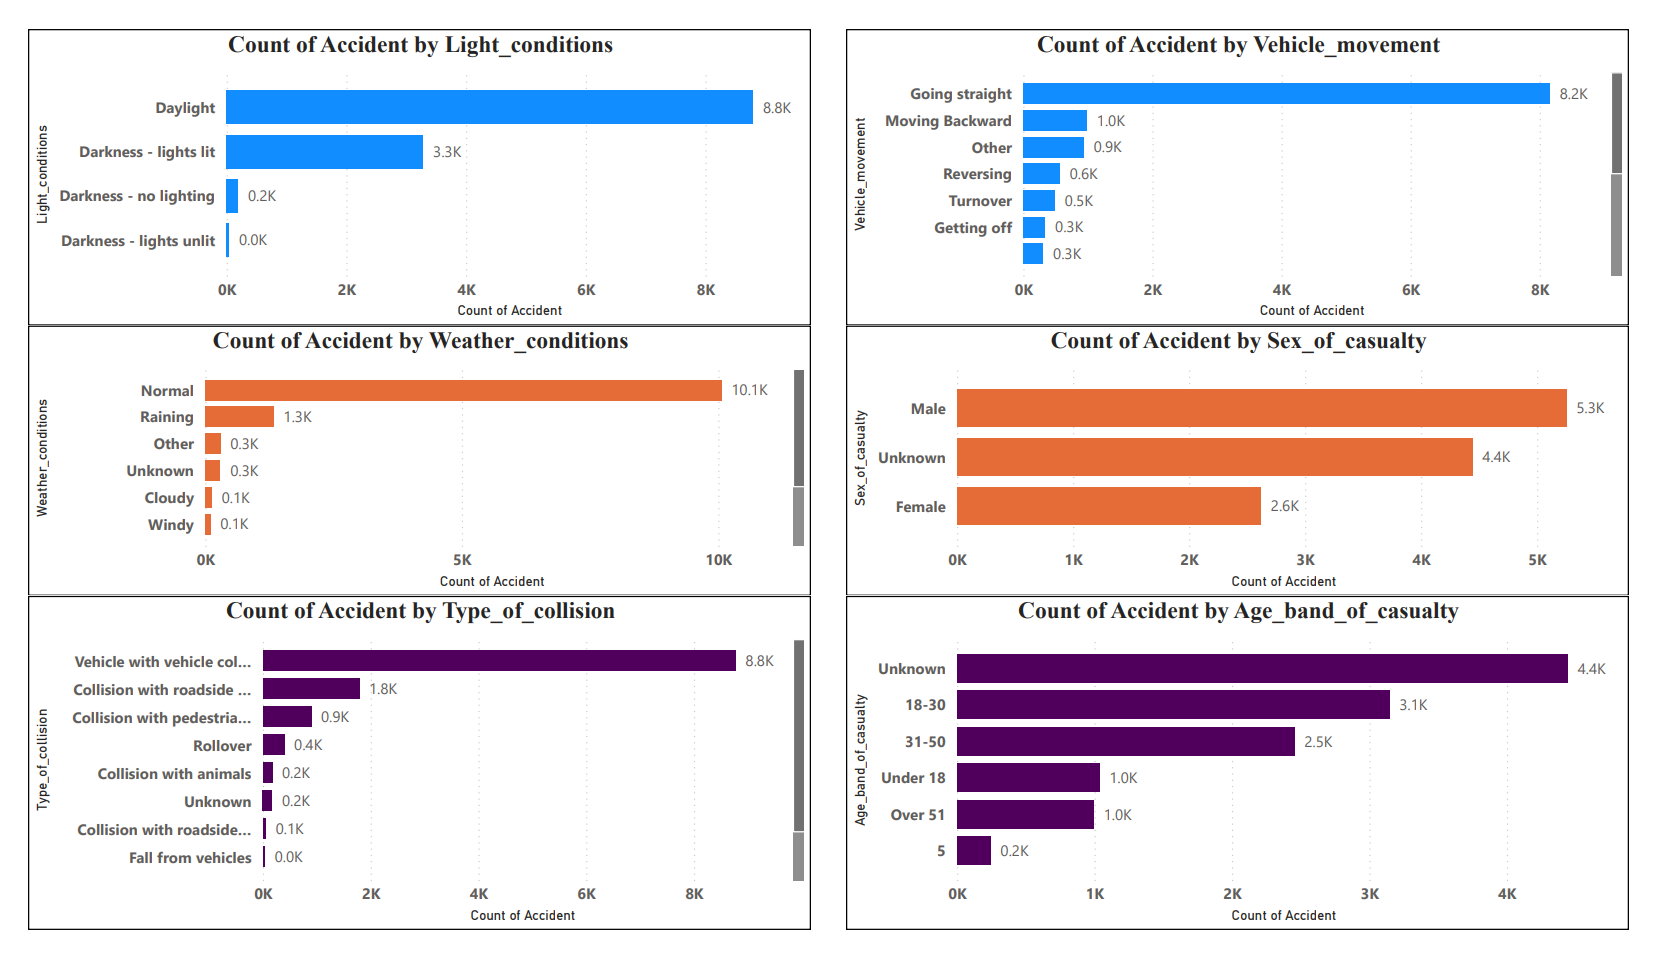

The page's visual inventory and layout, read from the dashboard file:
{"tool":"powerbi","page":{"name":"Count of Accident by Type 3","canvas":[1280,720],"ordinal":5},"visuals":[{"type":"barChart","fields":{"Y":["CountNonNull(RTA Dataset.Index)"],"Category":["RTA Dataset.Light_conditions"]},"box":[0,0,625.7,237.1],"z":0},{"type":"barChart","fields":{"Y":["CountNonNull(RTA Dataset.Index)"],"Category":["RTA Dataset.Weather_conditions"]},"box":[0,237.1,625.7,215.7],"z":1},{"type":"barChart","fields":{"Y":["CountNonNull(RTA Dataset.Index)"],"Category":["RTA Dataset.Type_of_collision"]},"box":[0,452.9,625.7,267.1],"z":2},{"type":"barChart","fields":{"Y":["CountNonNull(RTA Dataset.Index)"],"Category":["RTA Dataset.Vehicle_movement"]},"box":[654.3,0,625.7,237.1],"z":3},{"type":"barChart","fields":{"Y":["CountNonNull(RTA Dataset.Index)"],"Category":["RTA Dataset.Sex_of_casualty"]},"box":[654.3,237.1,625.7,215.7],"z":4},{"type":"barChart","fields":{"Y":["CountNonNull(RTA Dataset.Index)"],"Category":["RTA Dataset.Age_band_of_casualty"]},"box":[654.3,452.9,625.7,267.1],"z":5}]}

Visuals, with their boxes in screenshot pixels (x1, y1, x2, y2), scaled from the page's 1280x720 canvas onto the 1658x954 screenshot:
barChart - CountNonNull(RTA Dataset.Index) x RTA Dataset.Light_conditions: bbox=[0, 0, 810, 314]
barChart - CountNonNull(RTA Dataset.Index) x RTA Dataset.Weather_conditions: bbox=[0, 314, 810, 600]
barChart - CountNonNull(RTA Dataset.Index) x RTA Dataset.Type_of_collision: bbox=[0, 600, 810, 953]
barChart - CountNonNull(RTA Dataset.Index) x RTA Dataset.Vehicle_movement: bbox=[848, 0, 1657, 314]
barChart - CountNonNull(RTA Dataset.Index) x RTA Dataset.Sex_of_casualty: bbox=[848, 314, 1657, 600]
barChart - CountNonNull(RTA Dataset.Index) x RTA Dataset.Age_band_of_casualty: bbox=[848, 600, 1657, 953]
